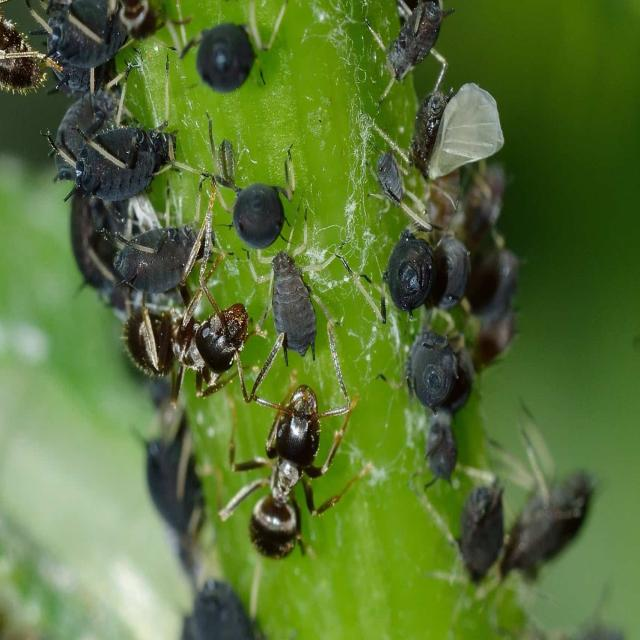Aphid-Grown-: (247, 210, 342, 371), (58, 120, 192, 210), (102, 214, 220, 308)
